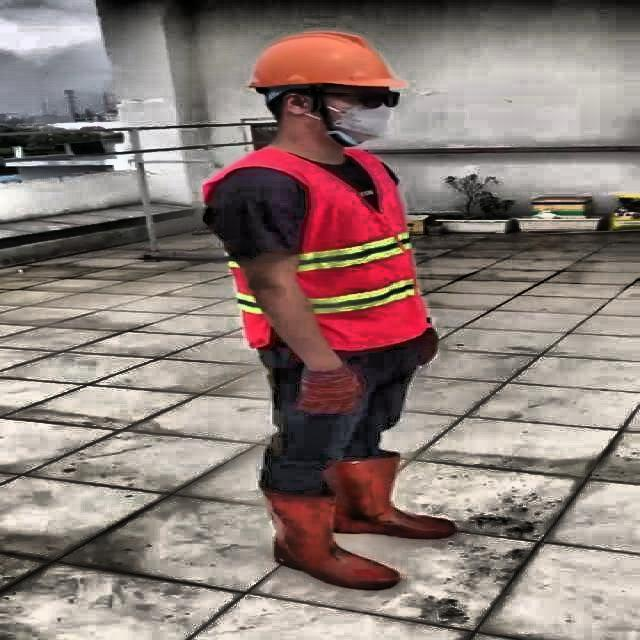safety_helmet: (245, 31, 398, 88)
safety_jacket: (200, 146, 428, 349)
